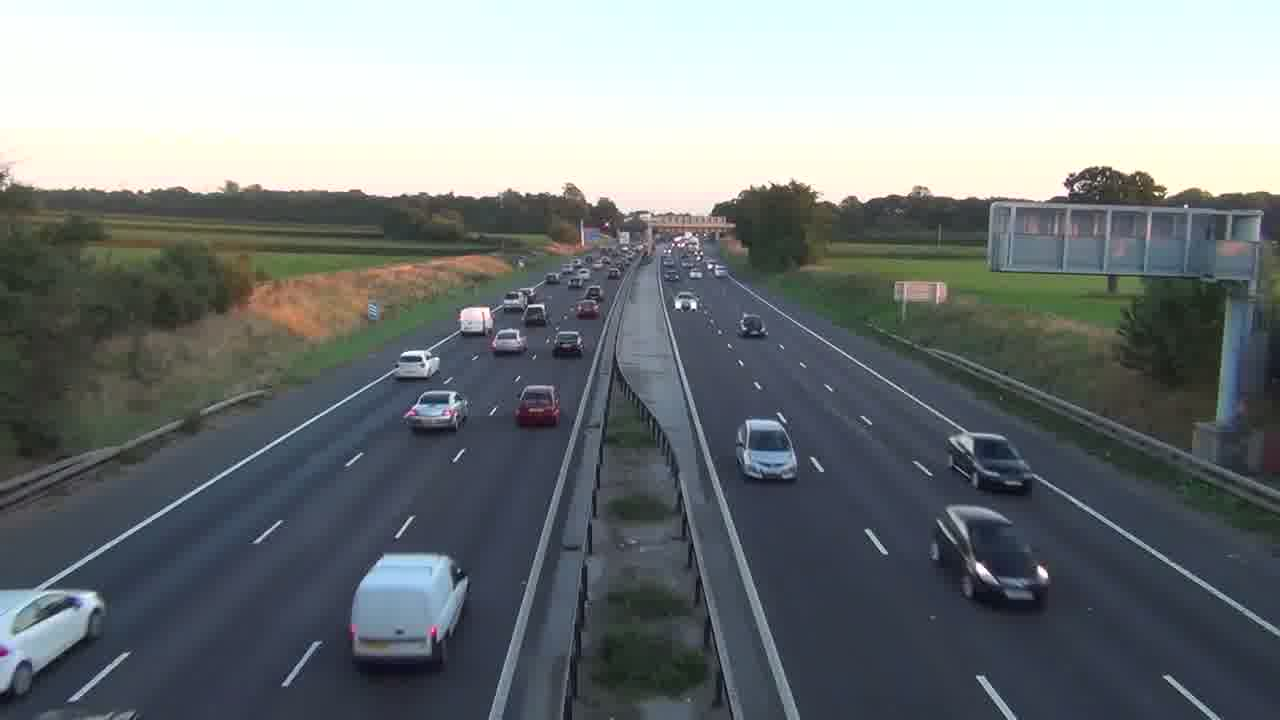car: (928, 504, 1052, 606), (0, 587, 109, 702), (946, 430, 1032, 494), (736, 416, 799, 482), (402, 389, 469, 433), (514, 384, 561, 427), (395, 348, 440, 379), (551, 329, 584, 359), (738, 312, 767, 339)
truck: (347, 551, 470, 669), (459, 305, 493, 337)
